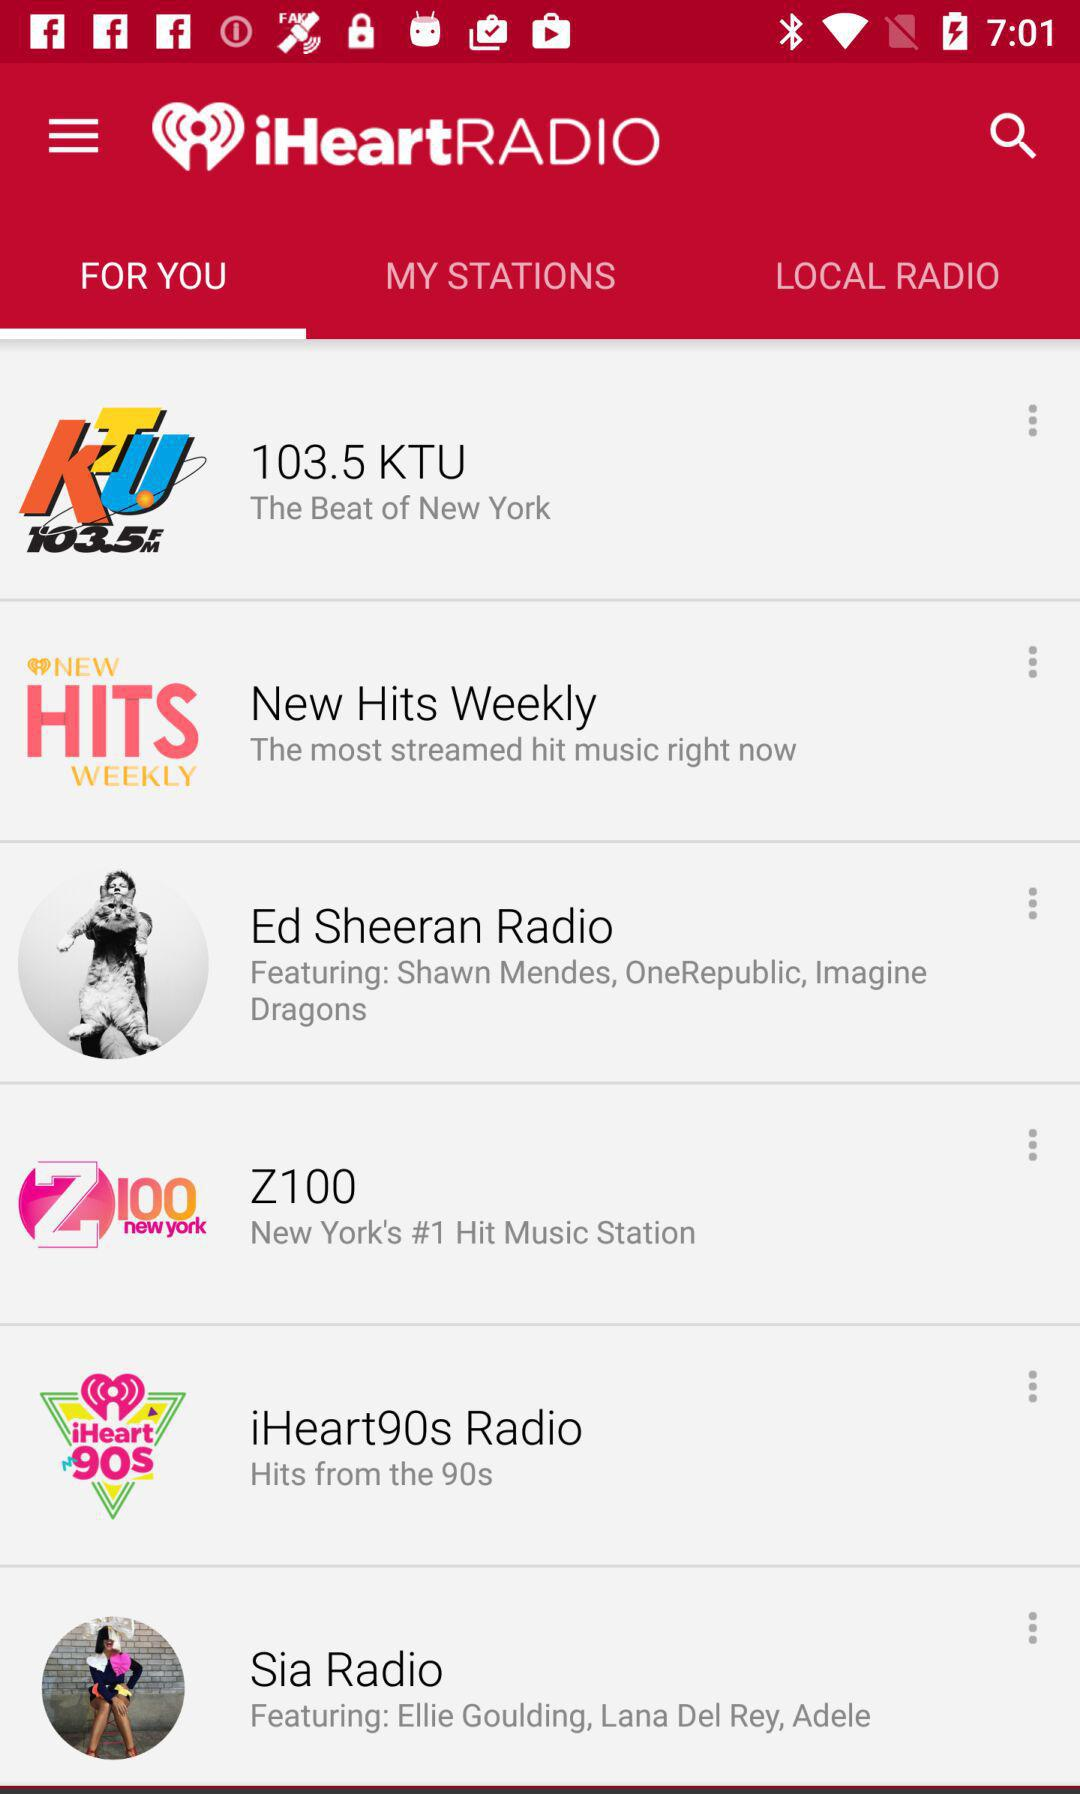Icon: (989, 111, 1036, 160), (47, 118, 100, 155), (1027, 1369, 1039, 1404), (1027, 1128, 1039, 1164), (1026, 885, 1038, 921), (1027, 645, 1039, 680), (1027, 402, 1039, 438), (1027, 1609, 1038, 1645)
Image: (18, 869, 211, 1060), (152, 101, 661, 173), (19, 407, 209, 555), (27, 656, 200, 787), (40, 1372, 188, 1520), (42, 1616, 187, 1761), (18, 1160, 208, 1249)
Text: (251, 959, 928, 1028), (252, 1700, 872, 1734), (250, 736, 797, 769), (254, 686, 598, 732), (252, 907, 612, 944), (252, 1407, 583, 1445), (251, 1219, 694, 1246), (250, 495, 552, 522), (252, 443, 465, 481), (251, 1649, 443, 1686), (387, 261, 616, 291), (776, 261, 999, 291), (252, 1461, 493, 1486), (82, 261, 227, 292), (251, 1167, 356, 1205)
UpperTaskBar: (1, 1, 1080, 64)
